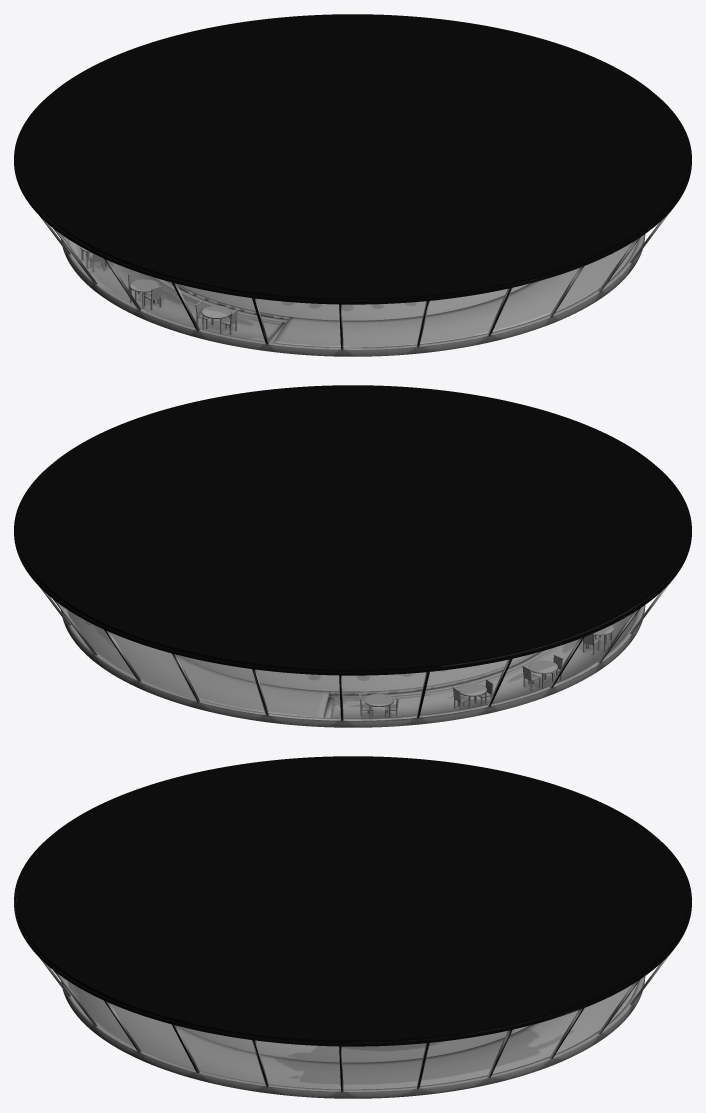
The model's file is bar.glb.
3 renders of one model, top to bottom at view 1: azimuth 30°, elevation 25°; view 2: azimuth 150°, elevation 25°; view 3: azimuth 270°, elevation 25°, orthographic.
Visible parts, largest first — view 1: bar bake; view 2: bar bake; view 3: bar bake.
Part boxes in pixels (x1,y1,x2,y2): bar bake: (14,14,691,356); bar bake: (14,385,691,727); bar bake: (14,756,691,1098).
Size of the model in its own units: 31.42 by 3.93 by 31.42.
1 material, 1 textured.
